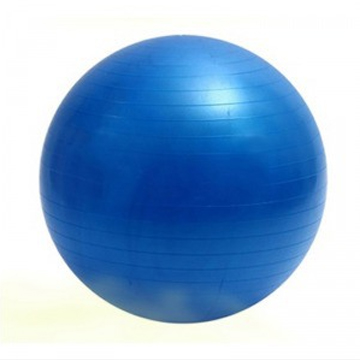yogaball: (32, 31, 333, 327)
